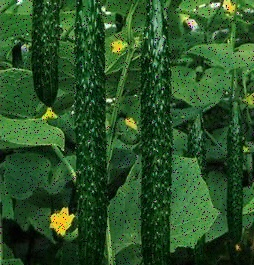cucumber: (74, 8, 106, 261), (143, 12, 168, 264), (30, 1, 59, 102), (227, 118, 247, 244)
cucumber_plant: (4, 156, 70, 235)
